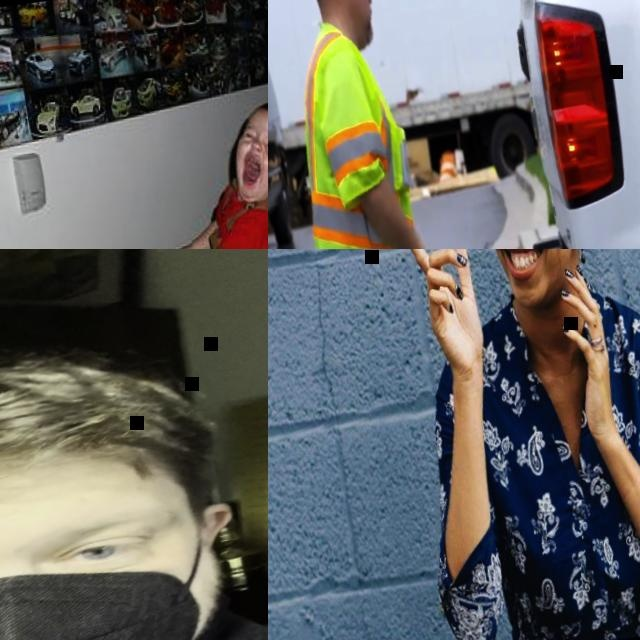Mask: (0, 520, 239, 640)
NO-Hardhat: (0, 317, 209, 537), (251, 93, 268, 163)
NO-Mask: (495, 249, 576, 312), (225, 139, 268, 199), (342, 0, 378, 50)
NO-Safety Vest: (451, 286, 640, 640), (204, 182, 268, 249)
Person: (362, 249, 640, 640), (0, 282, 268, 640), (268, 0, 467, 249), (143, 90, 268, 249)
Safety Cone: (437, 151, 458, 180)
Safety Vest: (283, 13, 445, 249)
vehicle: (418, 0, 640, 249), (268, 10, 301, 249)
